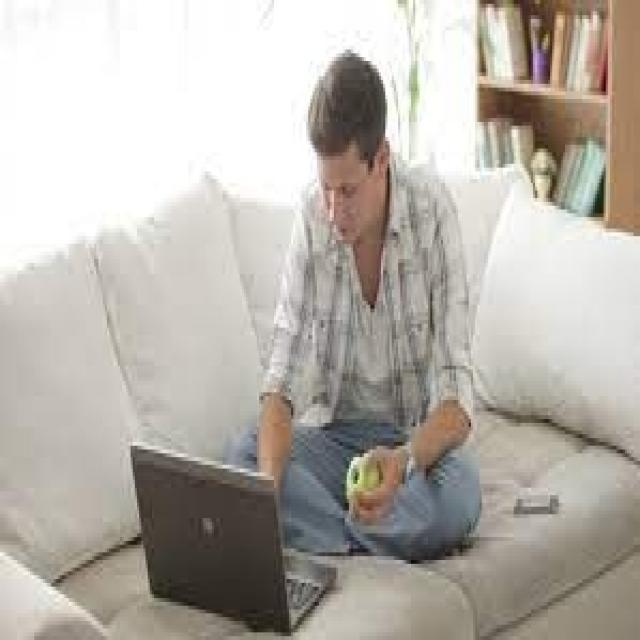sitting: (227, 53, 486, 563)
